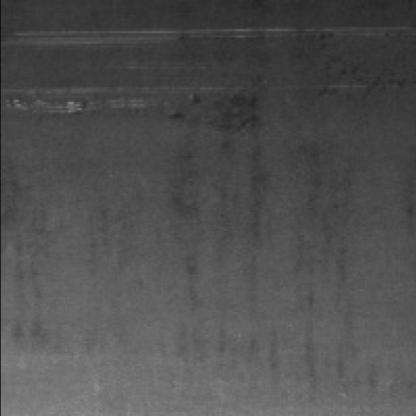scratches: (10, 27, 283, 56), (11, 86, 162, 121)
